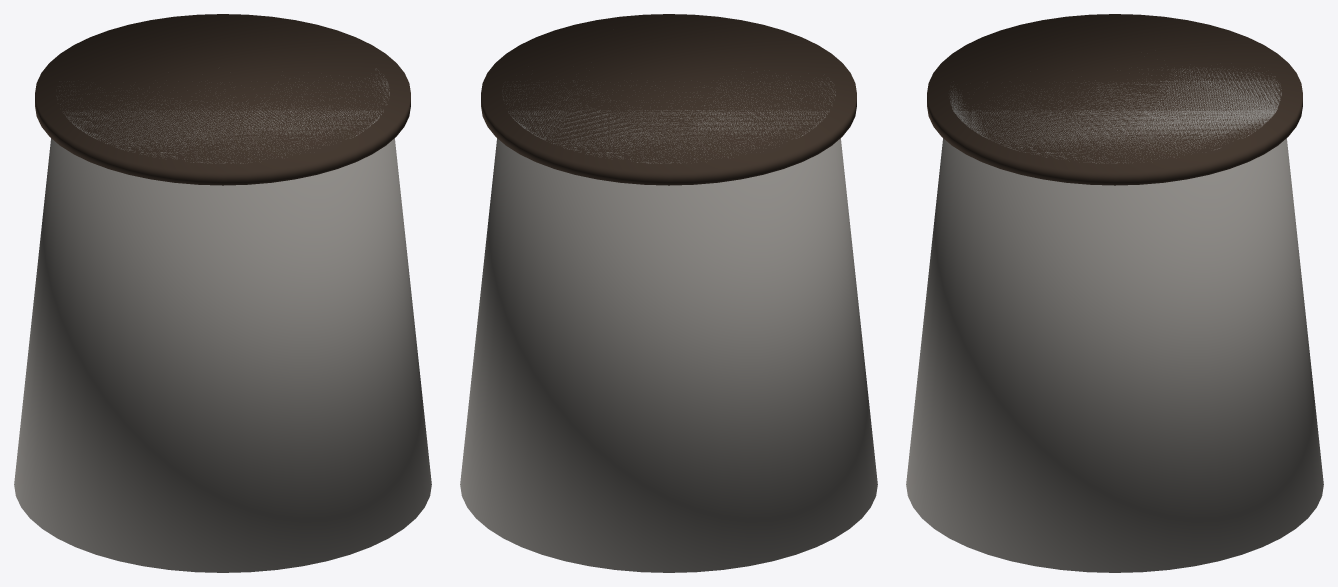
File: bl_concrete_pot.glb
3 renders of one model, left to right at view 1: azimuth 30°, elevation 25°; view 2: azimuth 150°, elevation 25°; view 3: azimuth 270°, elevation 25°, orthographic.
Visible parts, largest first — view 1: pot, soil; view 2: pot, soil; view 3: pot, soil.
Part boxes in pixels (<box>): pot: <box>14,68,431,572</box>; soil: <box>35,14,410,185</box>; pot: <box>460,72,877,572</box>; soil: <box>481,14,856,185</box>; pot: <box>906,67,1323,572</box>; soil: <box>927,14,1302,185</box>.
Bounding box in the file's own units: 0.6 × 0.62 × 0.6.
